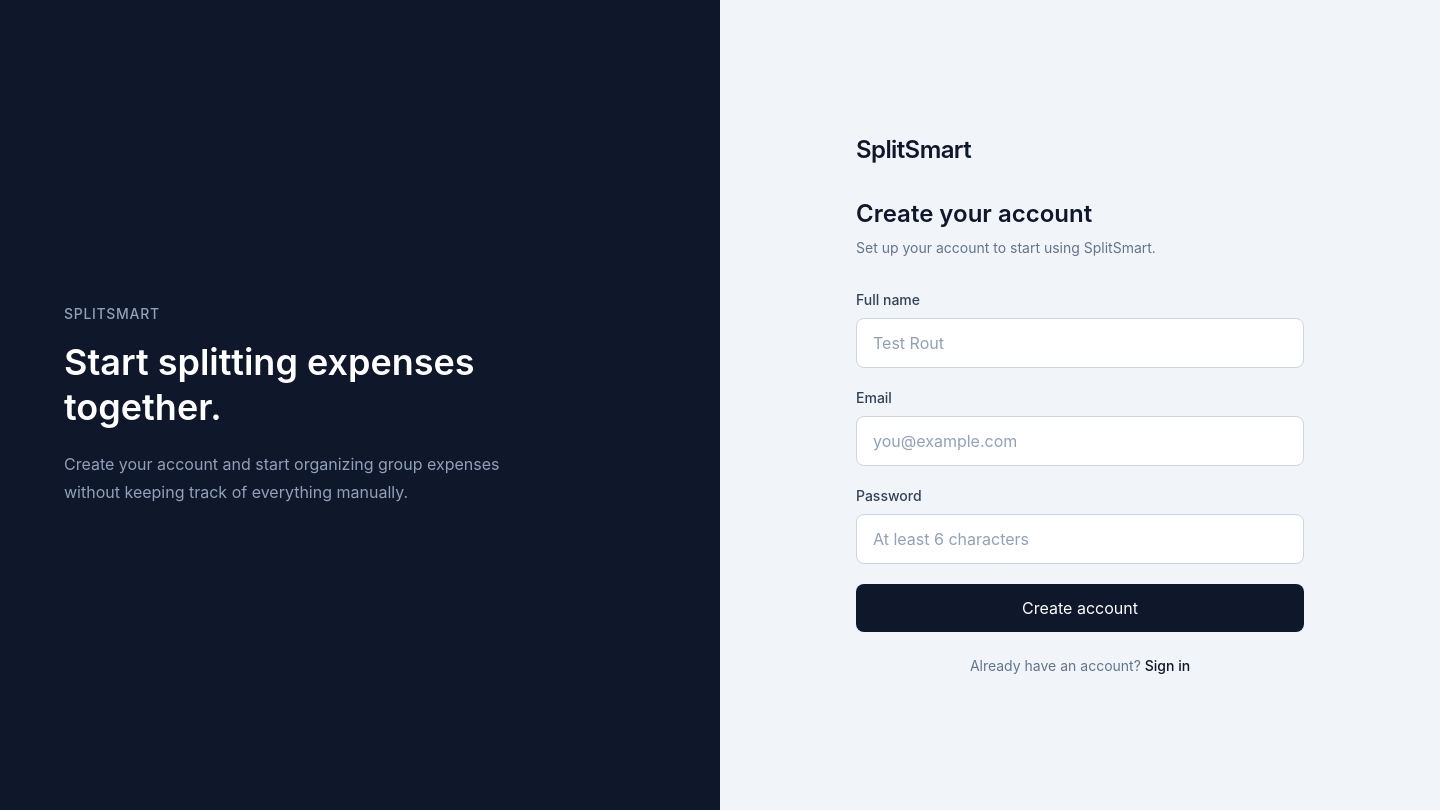
Register Component › shows error when name is missing
The width and height of the screenshot is (1440, 810).
Click the button "Create account": (1080, 608) [856,584,1304,632]
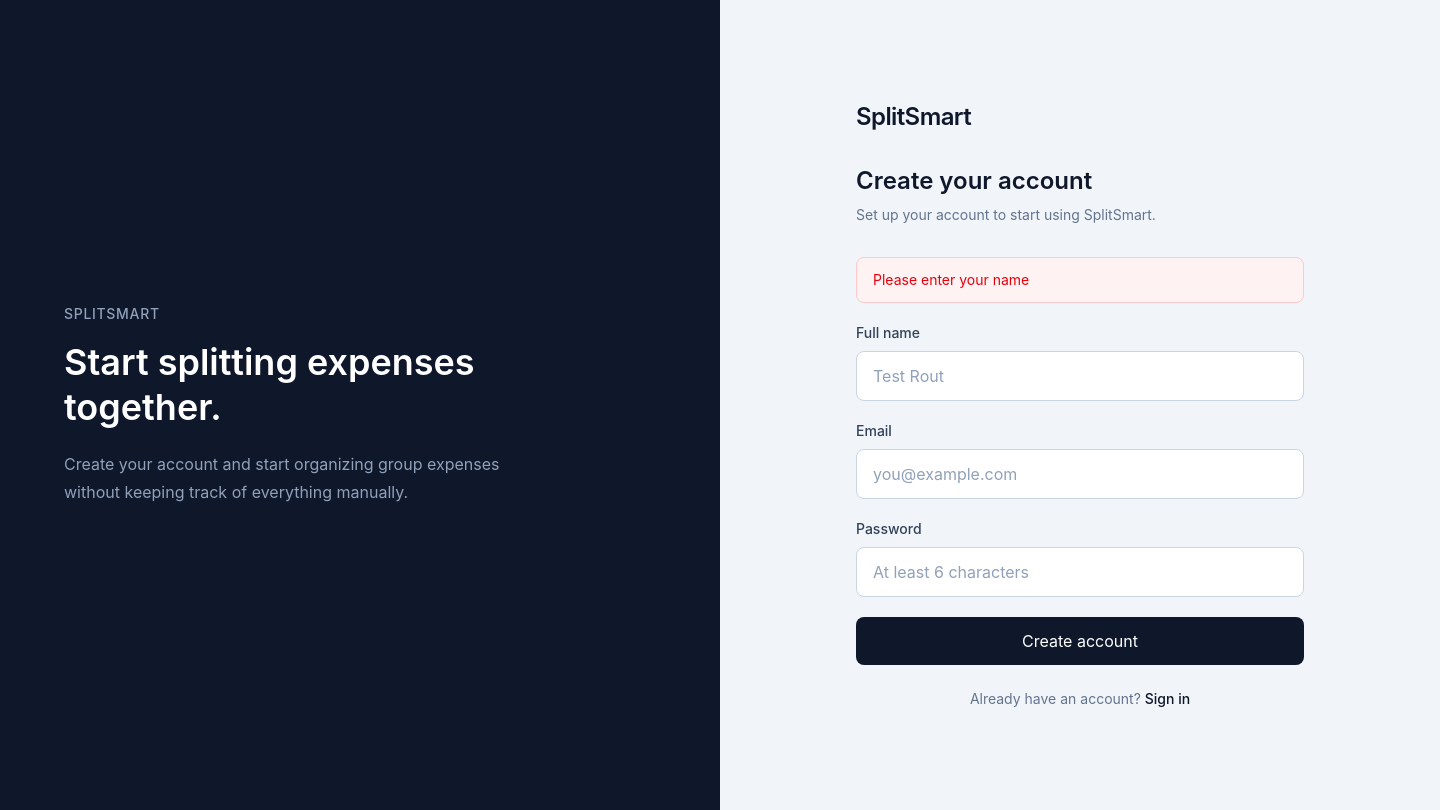
Result: the text "Please enter your name" is shown at [873,271,1029,288]
